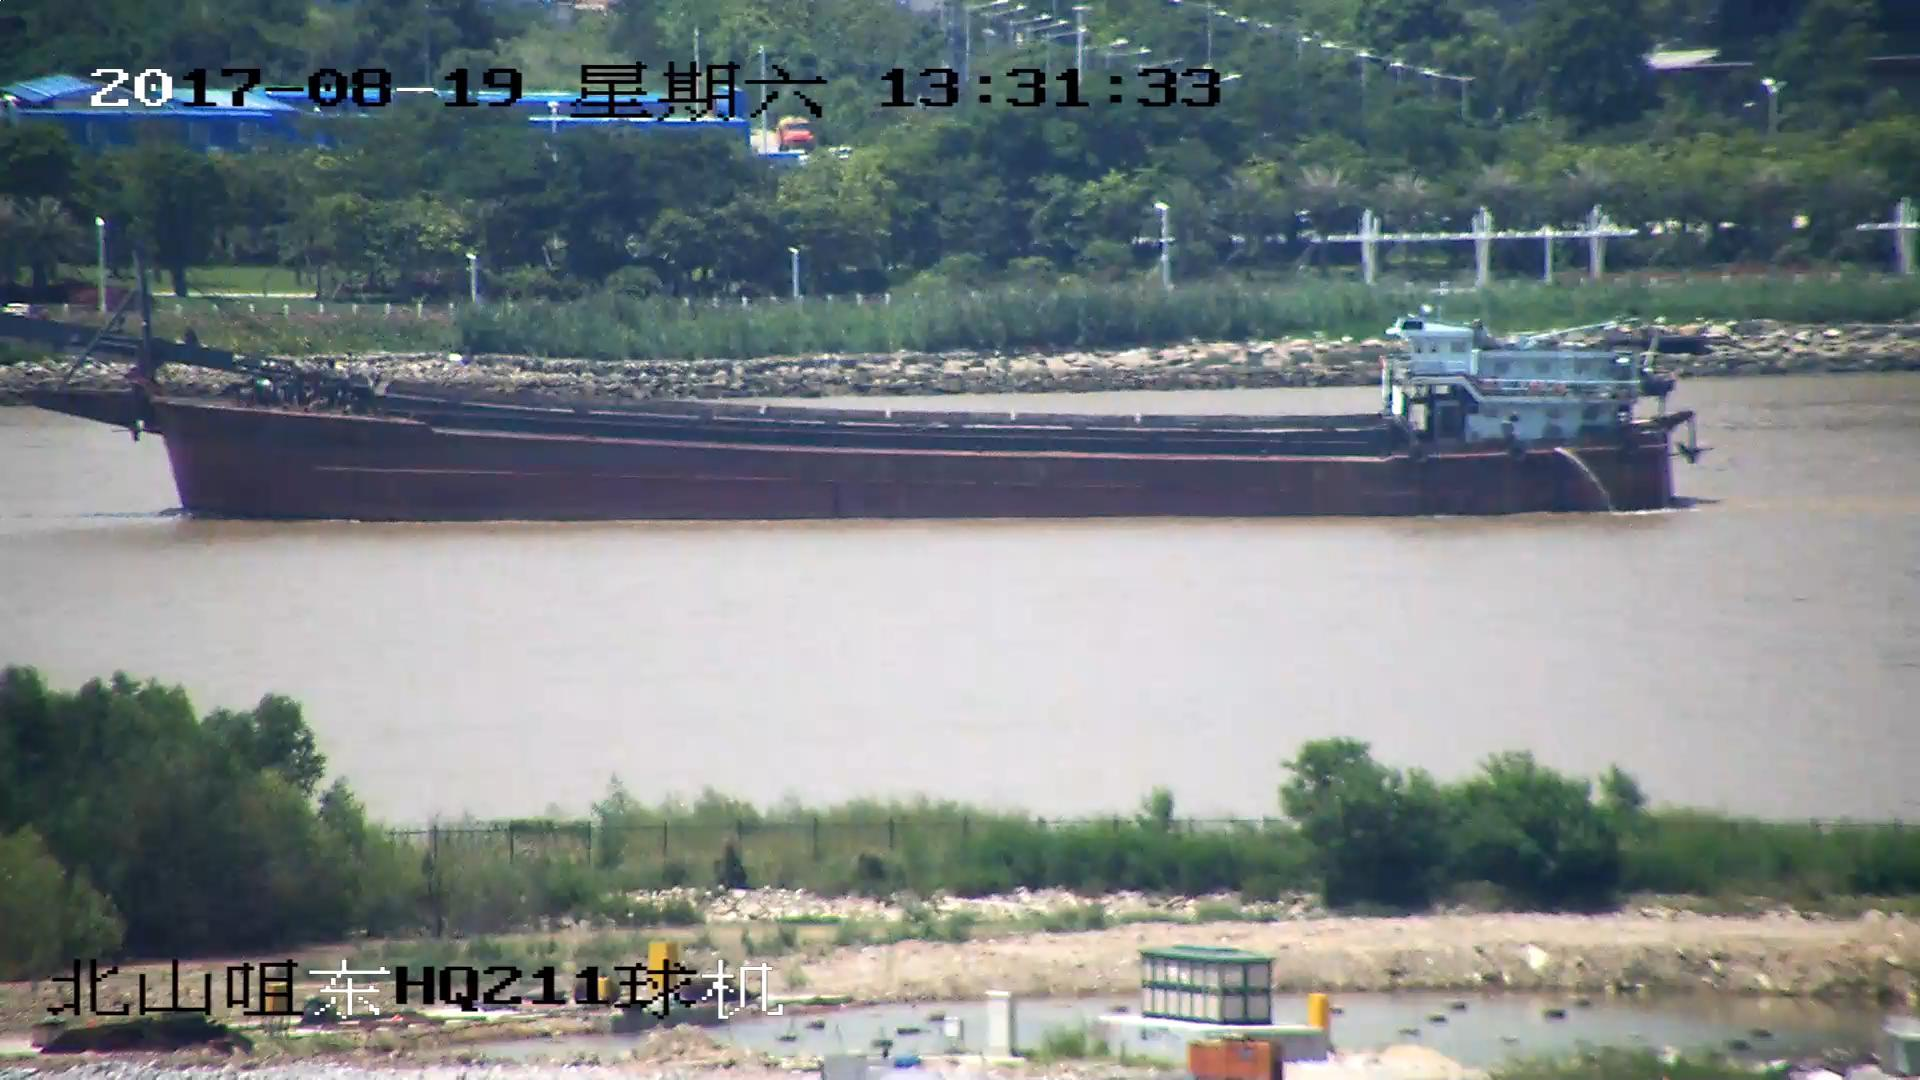Ship: (3, 298, 1697, 524)
